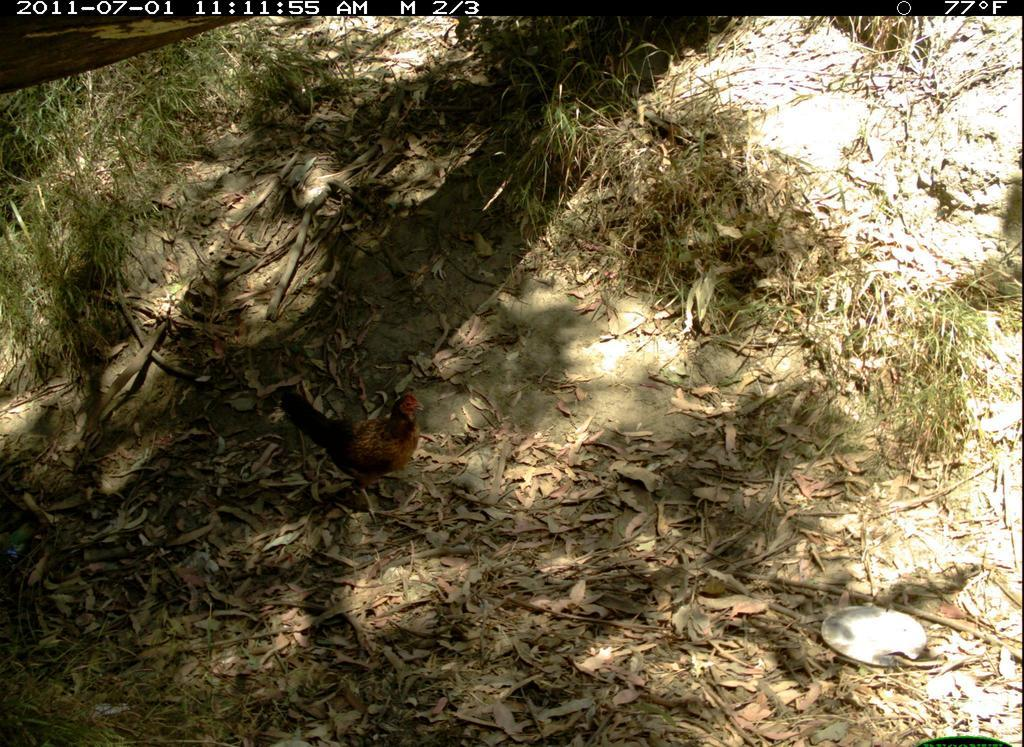bird: (276, 382, 437, 527)
